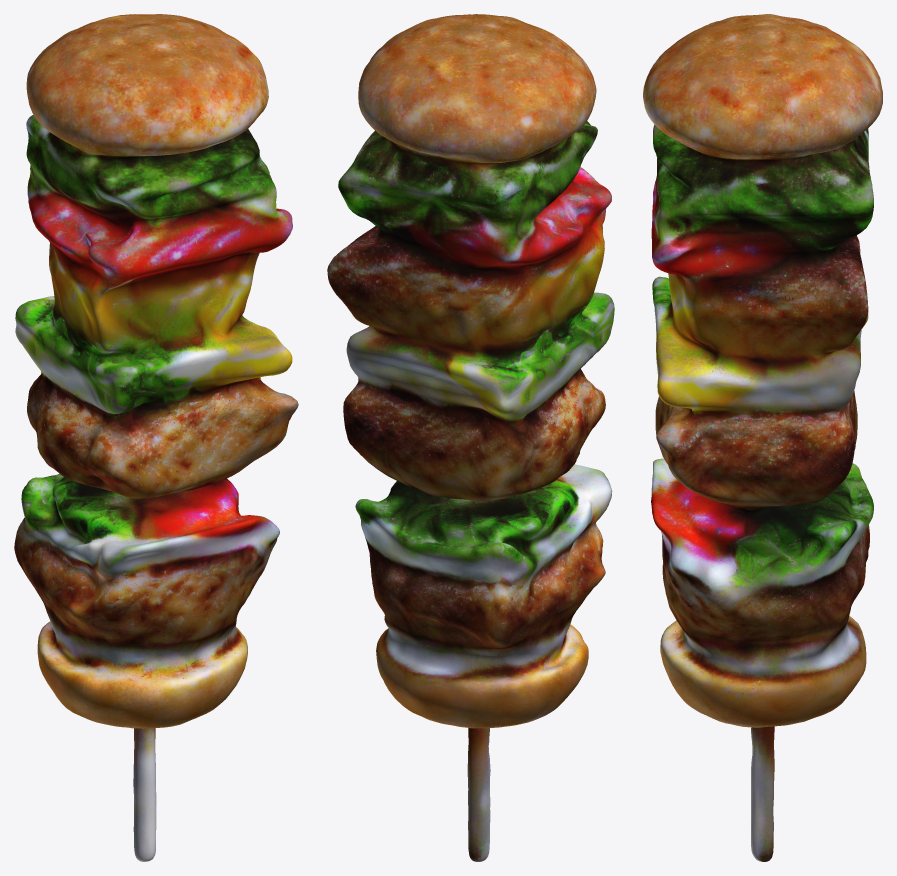
The model's file is meat_skewer.glb.
3 views of the same model, side by side, from view 1: azimuth 30°, elevation 25°; view 2: azimuth 150°, elevation 25°; view 3: azimuth 270°, elevation 25° (orthographic).
Parts seen in each view (by area): view 1: default_014-material; view 2: default_014-material; view 3: default_014-material.
Part boxes in pixels (box(x1,y1,x2,y2)): default_014-material: box(14, 14, 298, 861); default_014-material: box(327, 14, 614, 861); default_014-material: box(643, 14, 882, 861).
Size of the model in its own units: 0.4979 by 1.89 by 0.4979.
1 material, 1 textured.
